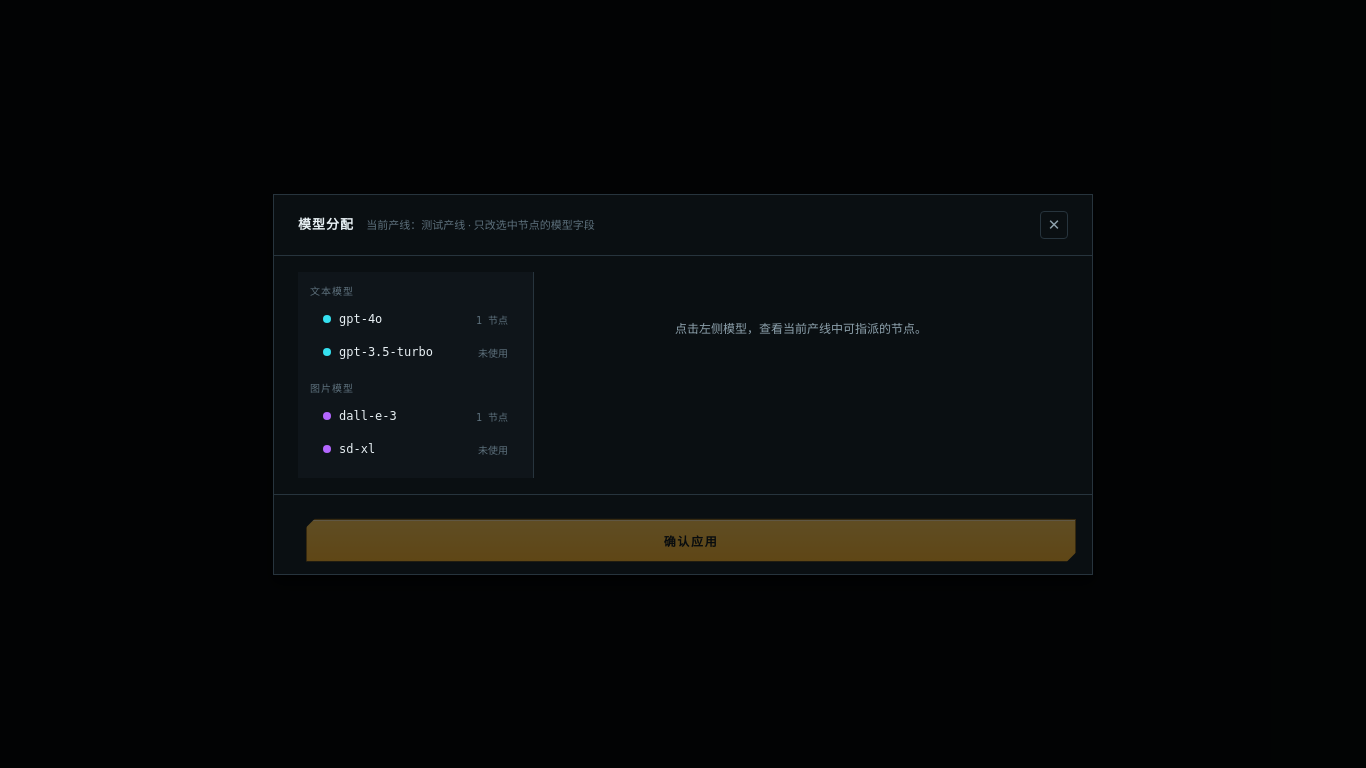
ModelAssignModal › 节点勾选 › 已使用该模型的节点被禁用
The width and height of the screenshot is (1366, 768).
Expected: the text "文本模型" is shown, x1=310 y1=286 x2=354 y2=296
Step 1. Click the text "gpt-4o" → coordinates (361, 319), box x1=339 y1=312 x2=382 y2=326
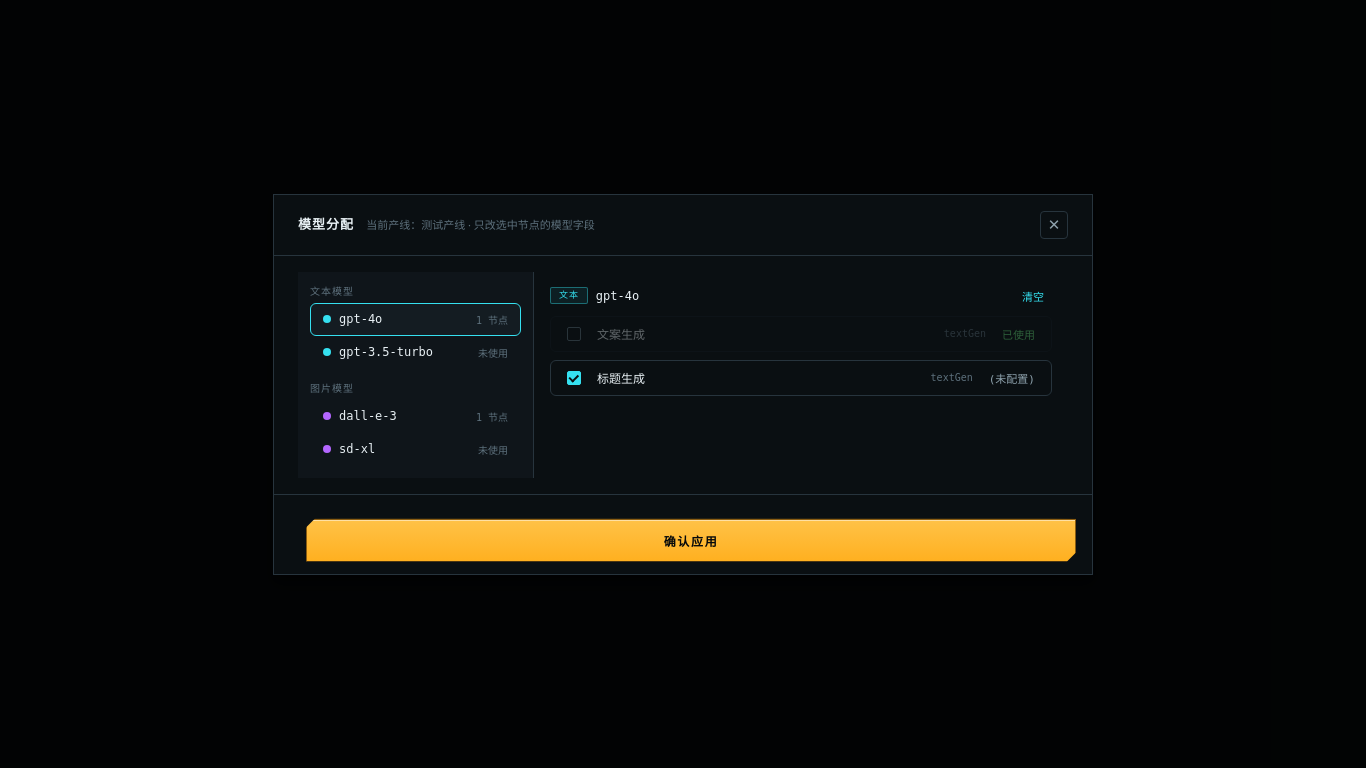
Expected: the button "文案生成 textGen 已使用" is disabled, x1=550 y1=316 x2=1052 y2=352
